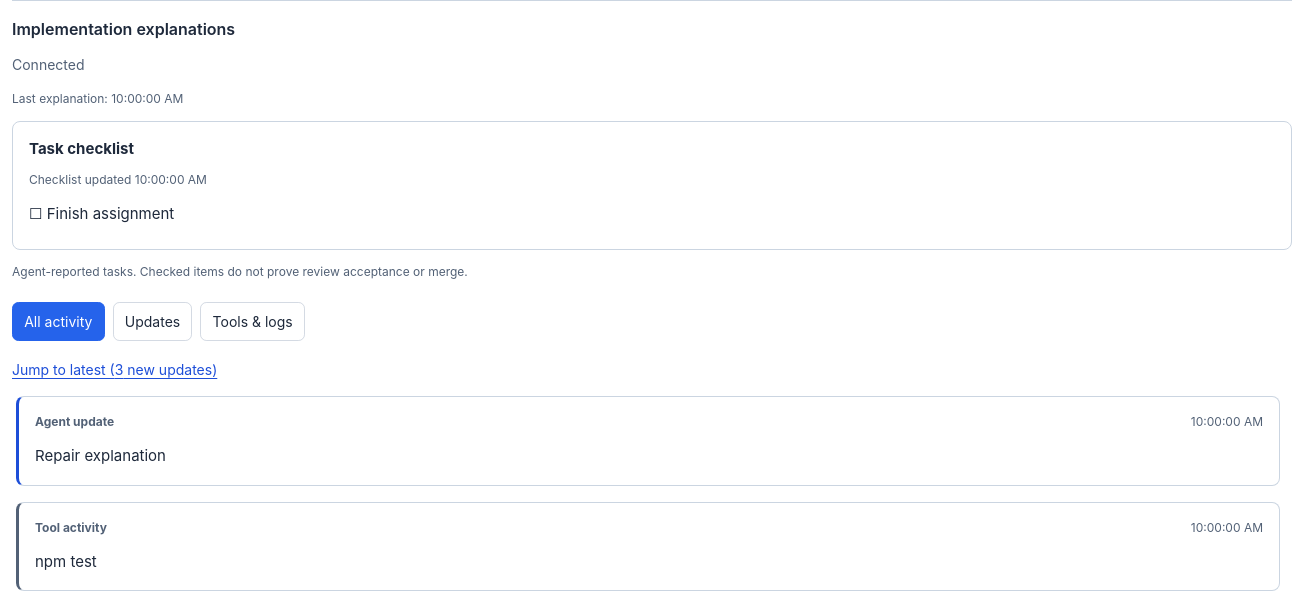
filters tool activity while retaining the checklist and a single stream connection
Click the button "Tools & logs": (253, 322) [200, 302, 305, 341]
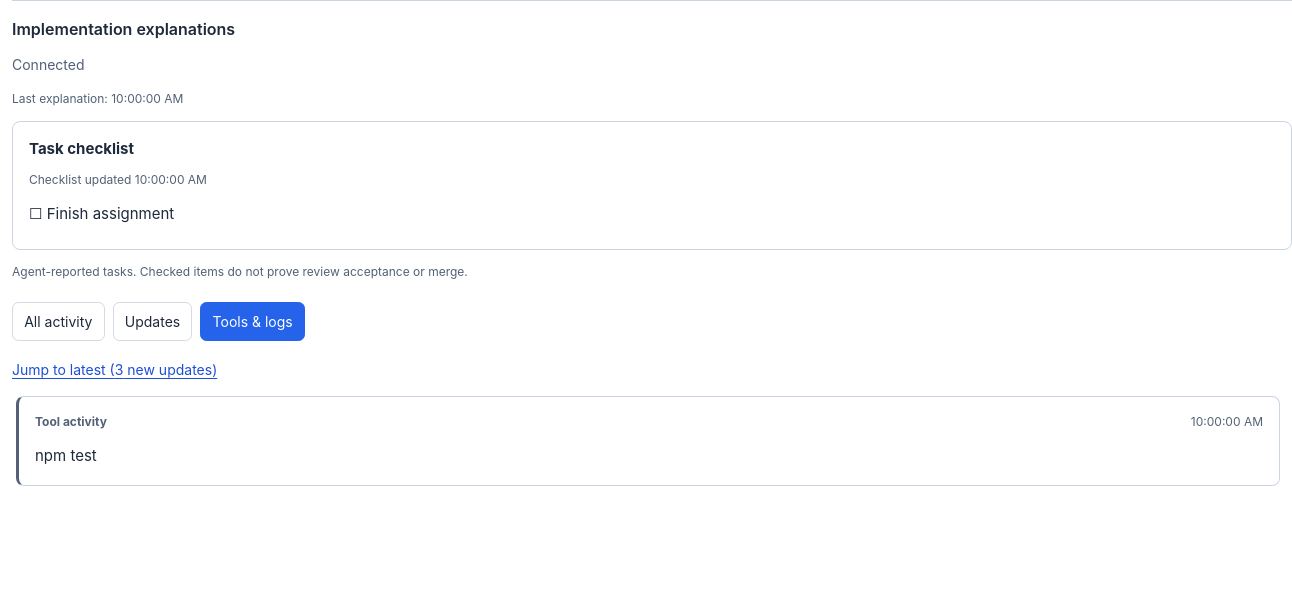
expect the text "npm test" is shown: met, box [35, 446, 97, 465]
expect the text "Repair explanation" is gone: met
